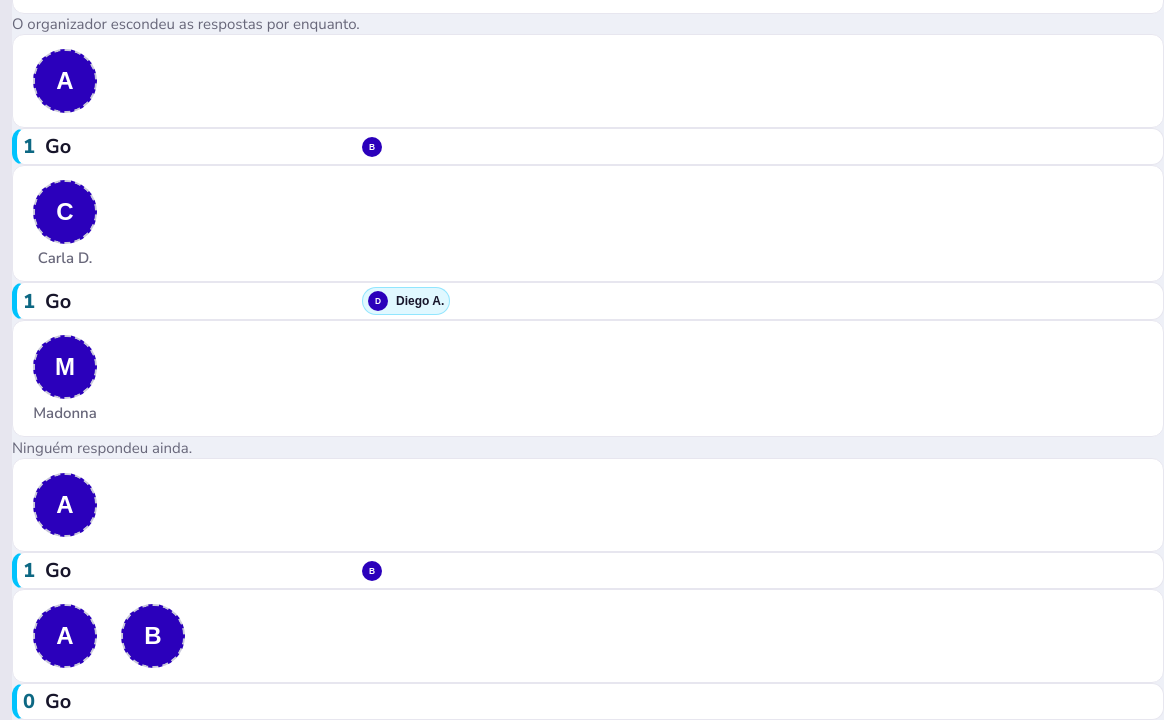
Scenario: PresentationStage › com hoverHints, o tooltip de rosto mostra a resposta da pessoa após o atraso
The image size is (1164, 720).
(page scrolled)
Hover over the element named "Revelar resposta de ana@exemplo.com" at (65, 636), box [33,604,97,668]
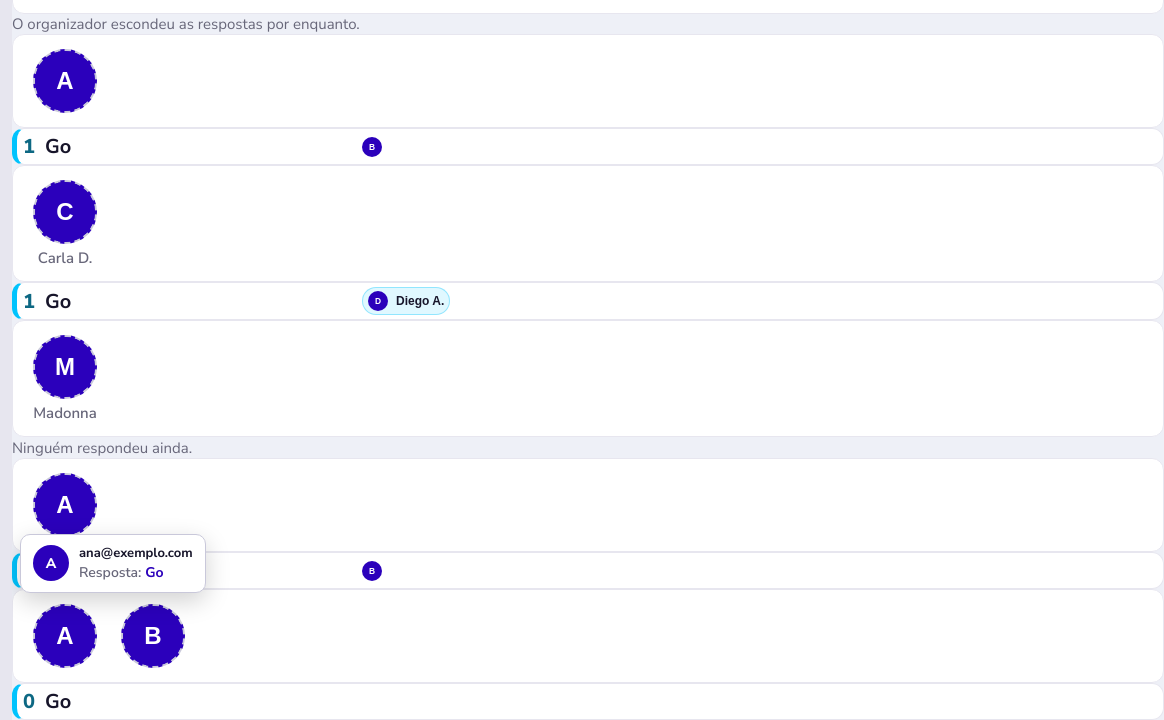
Check: the text "ana@exemplo.com" is shown, box [79,544,193,561]
Check: the text "Go" below "ana@exemplo.com" is shown, box [145,563,164,582]
